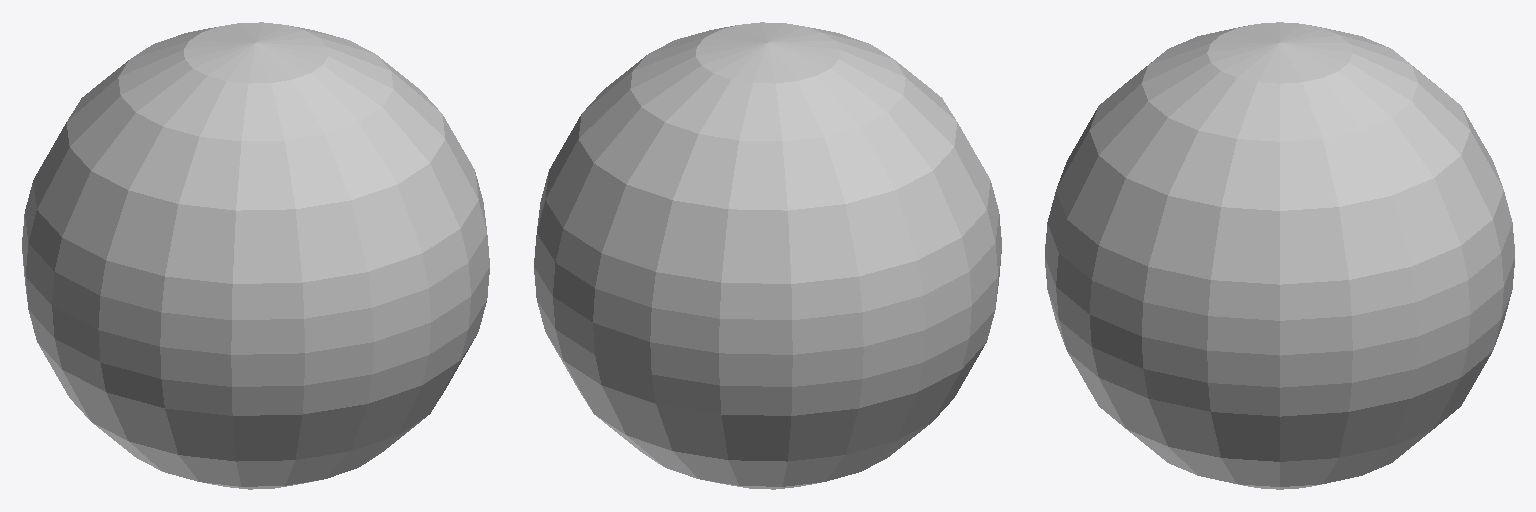
File: Planet4.obj
The picture shows the model from 3 angles: view 1: azimuth 30°, elevation 25°; view 2: azimuth 150°, elevation 25°; view 3: azimuth 270°, elevation 25°; orthographic projection.
Parts seen in each view (by area): view 1: pSphere3; view 2: pSphere3; view 3: pSphere3.
Part boxes in pixels (x1,y1,x2,y2): pSphere3: (22,22,489,489); pSphere3: (534,22,1001,489); pSphere3: (1045,22,1514,489).
Bounding box in the file's own units: 5.49 × 5.49 × 5.49.